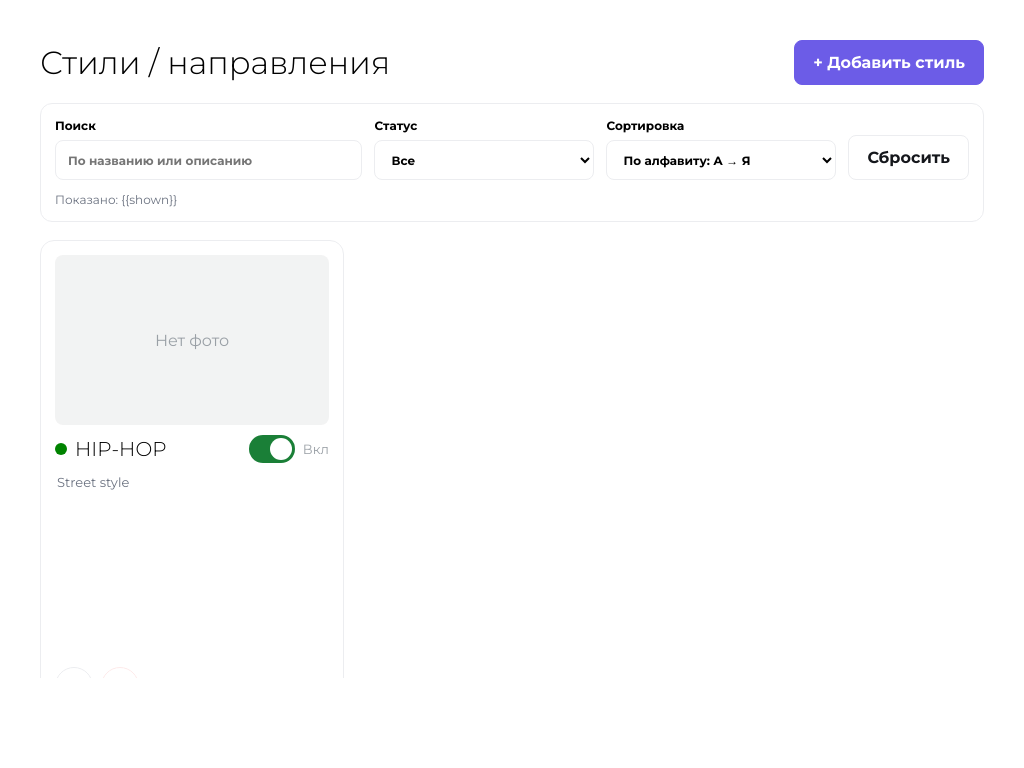
Test case: DanceStylesPage › opens the create modal
This screenshot has width=1024, height=768.
Expected: the heading "Hip-Hop" is shown, [75,437,166,461]
Click the button "+ Добавить стиль" at {"x": 889, "y": 62}, box [794,40,984,85]
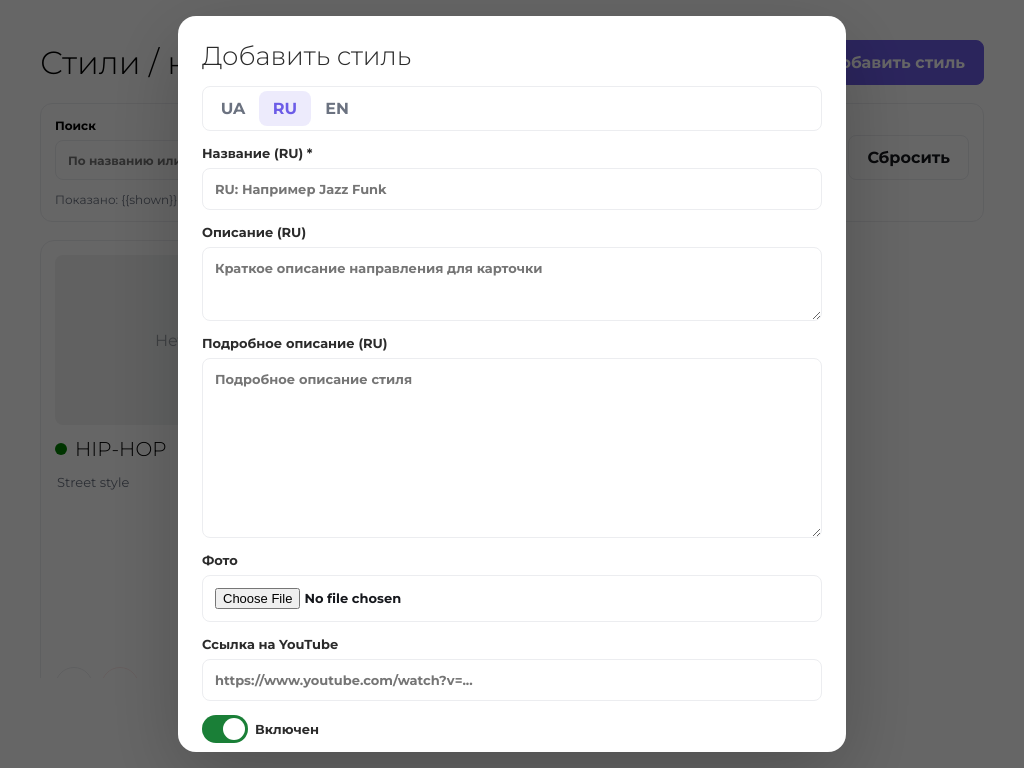
Expected: the heading "Добавить стиль" is shown, [202,40,411,72]
